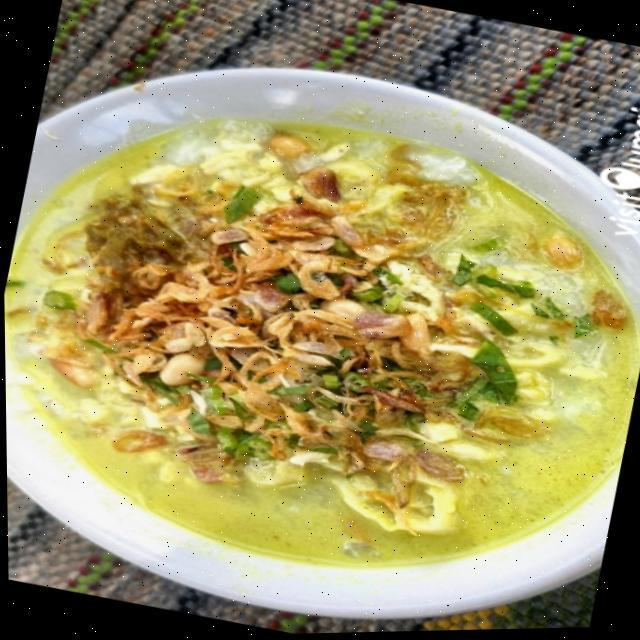bubur ayam: (1, 58, 640, 632)
mangkuk: (0, 5, 640, 640)
